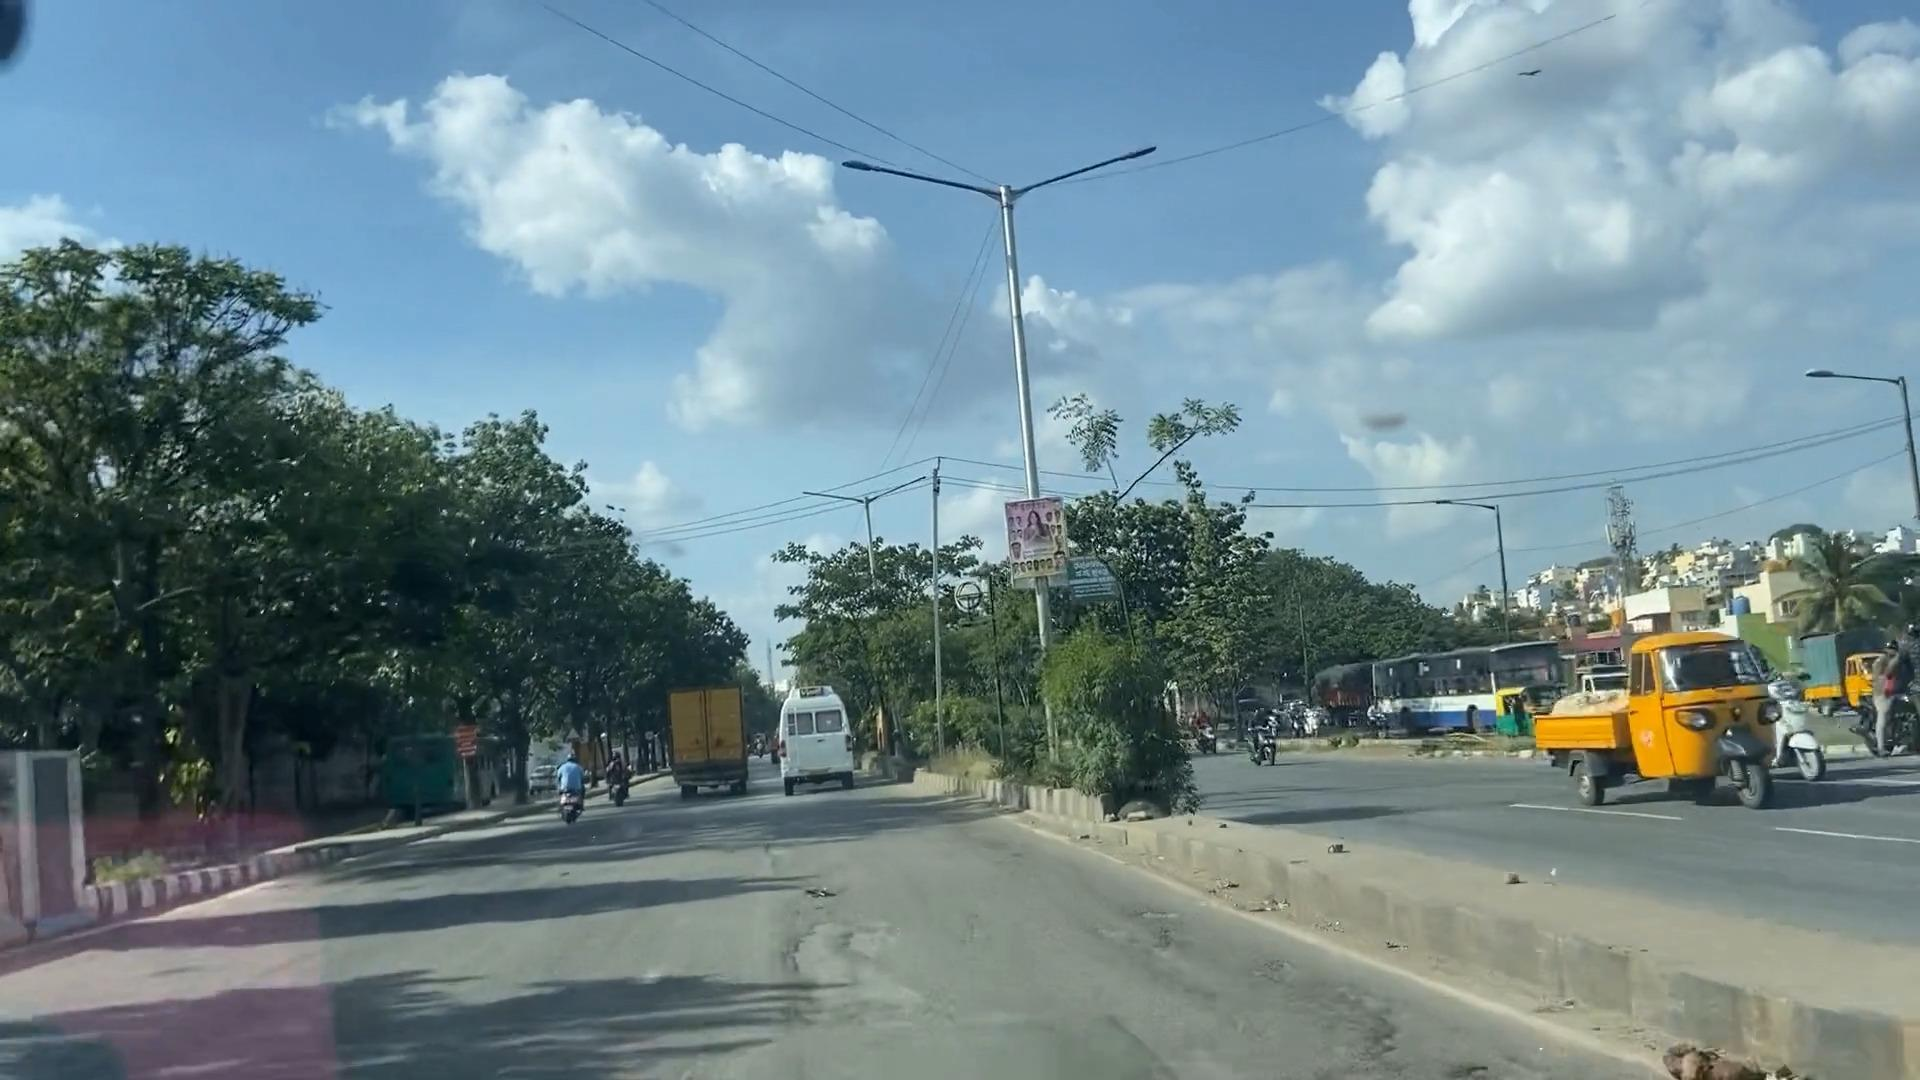HMV: (667, 670, 761, 791), (780, 669, 851, 789)
LMV: (543, 756, 594, 826), (599, 740, 623, 799)
RoadDamages: (789, 856, 920, 1050), (1273, 969, 1471, 1080), (1139, 871, 1193, 969)
